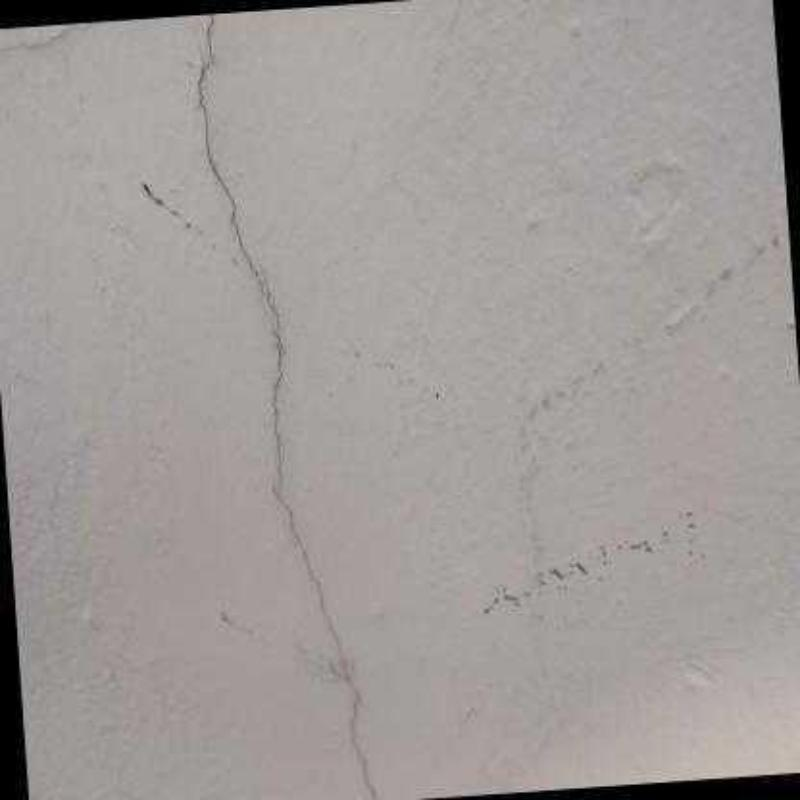pothole: (192, 12, 378, 798), (142, 185, 190, 225)
